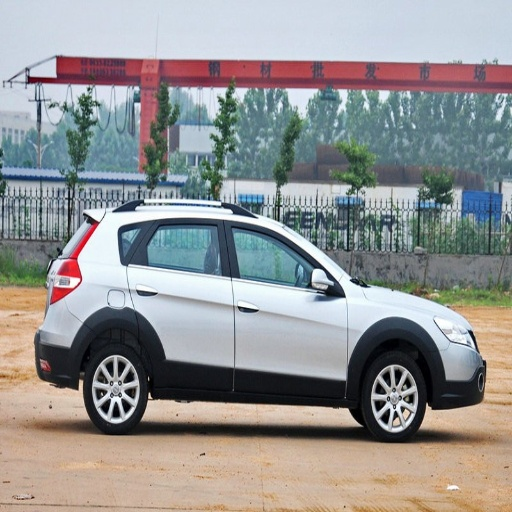back_right_door: (125, 215, 232, 389)
front_right_door: (229, 217, 346, 391)
